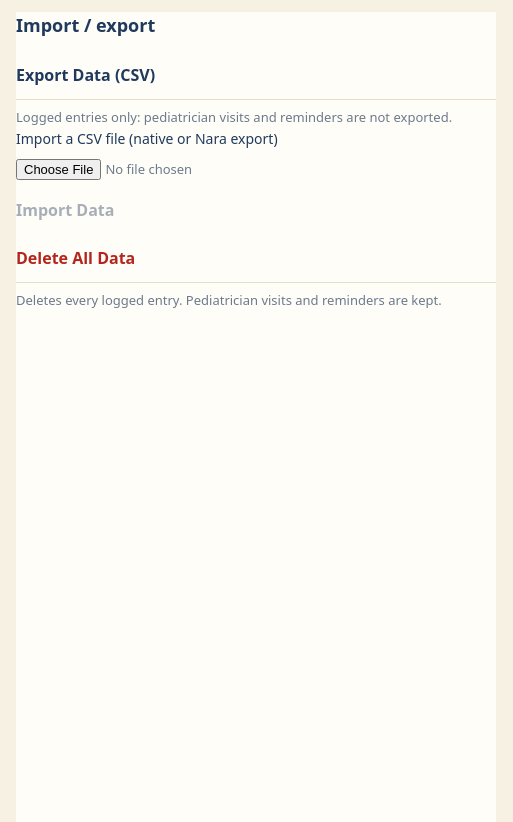
Test: ExportImportSection › deletes all data after confirmation and shows how many entries were removed
The width and height of the screenshot is (513, 822).
Click the button "Delete All Data": (76, 258) [16,234,496,282]
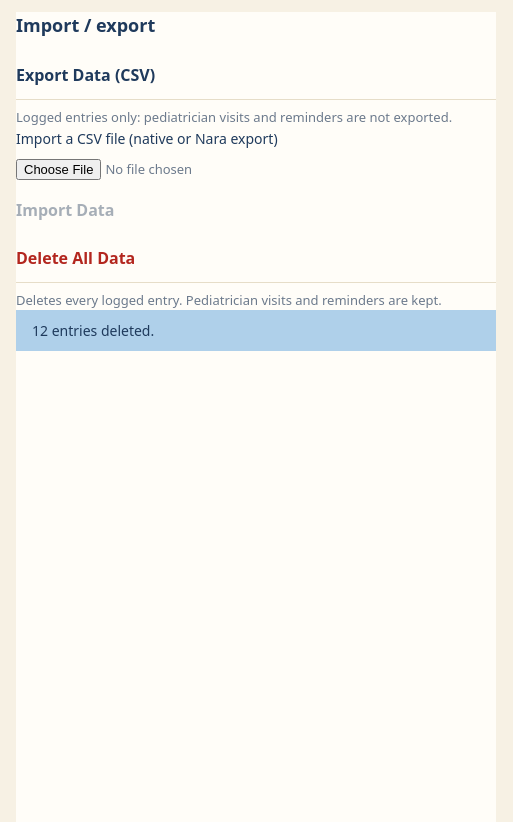
Now the message reads "12 entries deleted.", box [32,321,154,340]
